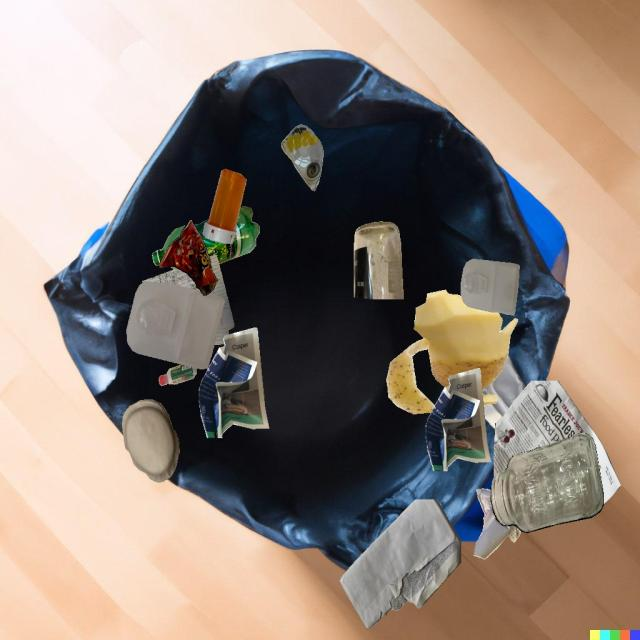biowaste: (386, 290, 518, 414)
glass: (491, 433, 603, 533), (354, 221, 404, 299), (281, 124, 323, 191)
paper: (494, 381, 621, 505), (340, 499, 461, 628), (199, 328, 269, 438), (426, 368, 491, 471), (122, 399, 179, 483), (473, 488, 521, 559), (482, 354, 526, 430), (209, 255, 234, 345), (142, 268, 200, 291)
plastic: (126, 281, 225, 369), (461, 259, 520, 315), (203, 169, 247, 244), (207, 227, 260, 264), (161, 241, 207, 266), (159, 364, 197, 386)
trash: (159, 220, 218, 296)
